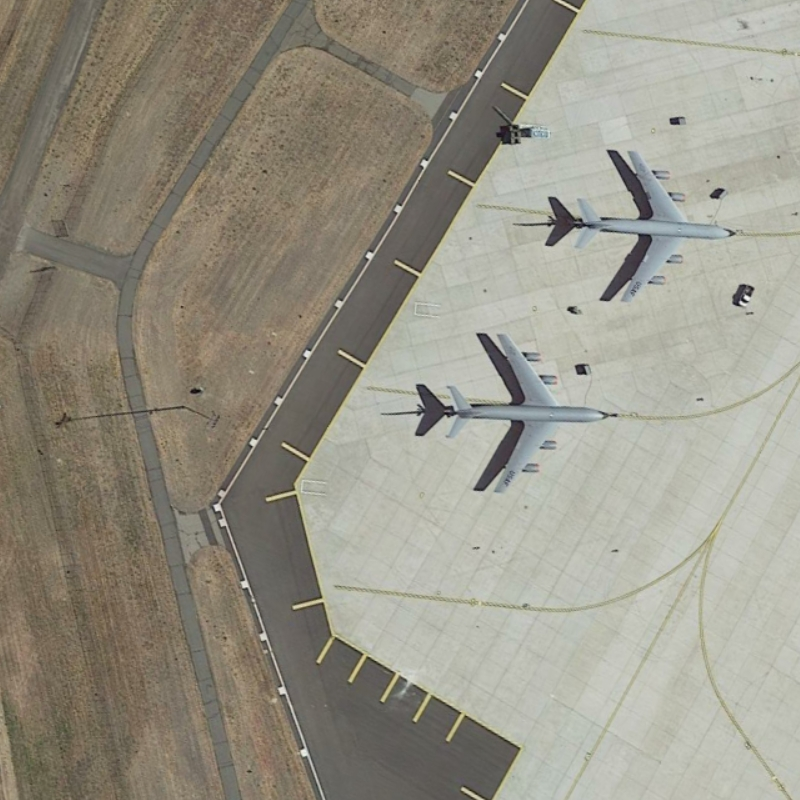A14: (443, 320, 630, 503), (572, 136, 745, 311)
